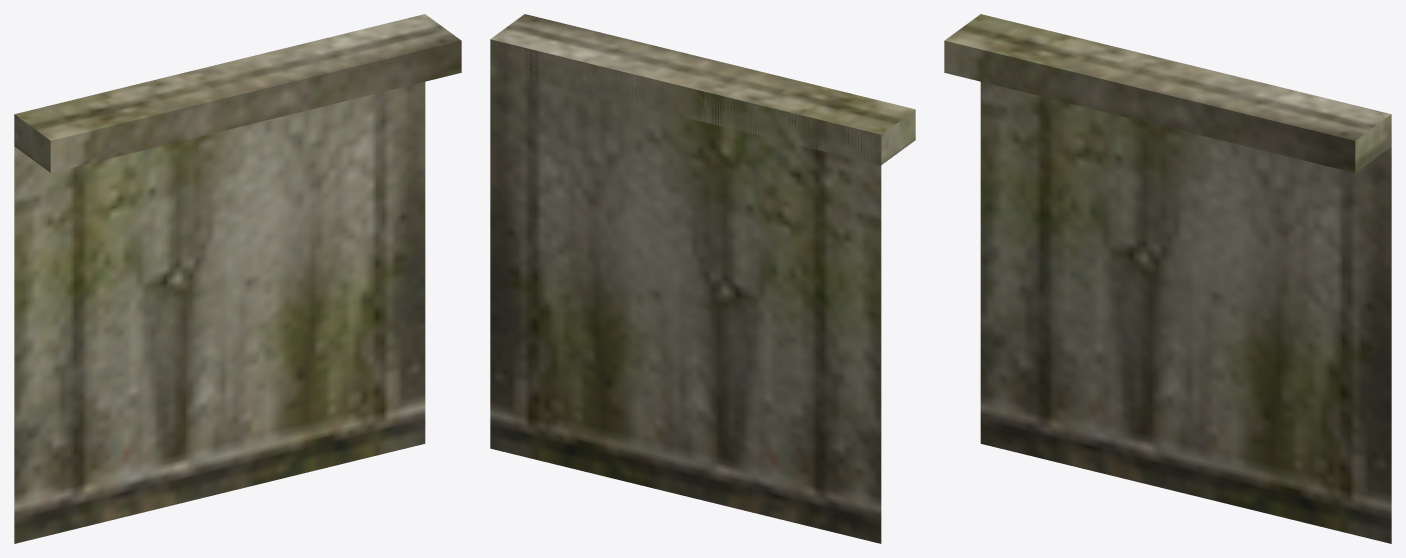
File: MO_SEWERPOOL_01.fbx
3 renders of one model, left to right at view 1: azimuth 30°, elevation 25°; view 2: azimuth 150°, elevation 25°; view 3: azimuth 330°, elevation 25°, orthographic. The views are drawn at different scales.
Parts seen in each view (by area): view 1: MO_SEWERPOOL_01; view 2: MO_SEWERPOOL_01; view 3: MO_SEWERPOOL_01.
Part boxes in pixels (x1=…): MO_SEWERPOOL_01: x1=14, y1=14, x2=461, y2=543; MO_SEWERPOOL_01: x1=490, y1=14, x2=915, y2=543; MO_SEWERPOOL_01: x1=944, y1=14, x2=1391, y2=543.
Size of the model in its own units: 2 by 2 by 0.3065.
